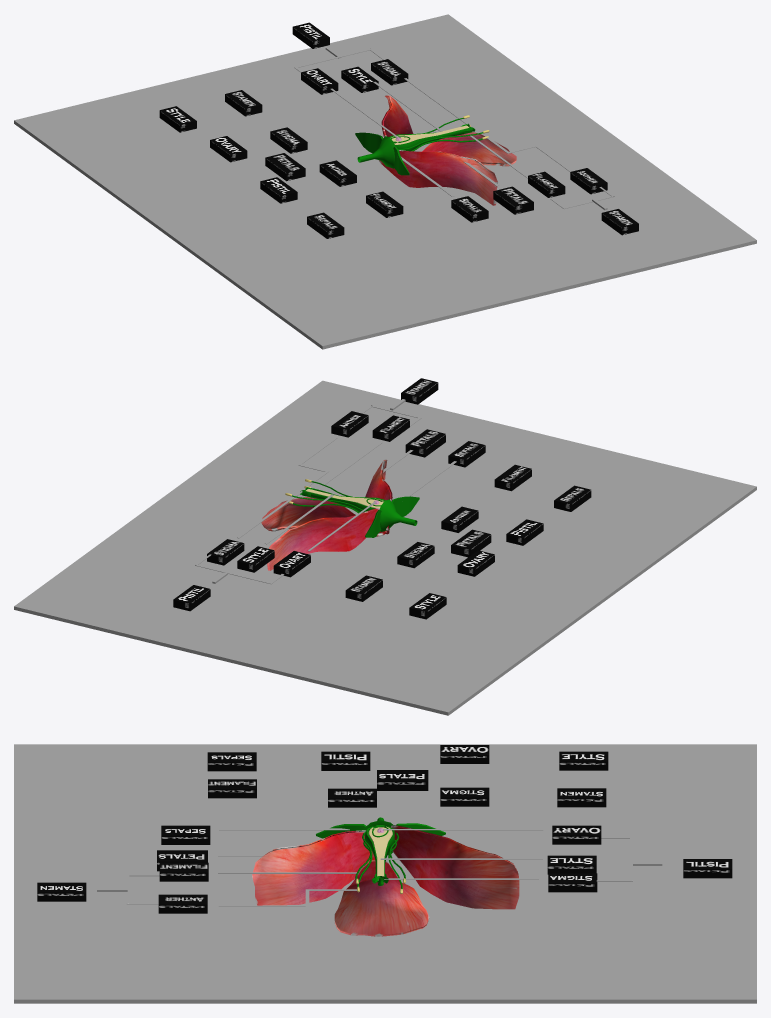
Rendered from parts of flower.fbx.
The picture shows the model from 3 angles, top to bottom: view 1: azimuth 30°, elevation 25°; view 2: azimuth 150°, elevation 25°; view 3: azimuth 270°, elevation 25°; orthographic projection. The views are drawn at different scales.
Visible parts, largest first — view 1: base, flowerShape, petals1 (×2), fliament (×2), stagmen (×2), sepals (×2), pistil (×2), style (×2), anther (×2), ovary (×2), stigma (×2); view 2: base, flowerShape, petals1 (×2), pistil (×2), fliament (×2), anther (×2), style (×2), stigma (×2), ovary (×2), stagmen (×2), sepals (×2); view 3: base, flowerShape, pistil (×2), stagmen (×2), sepals (×2), stigma (×2), fliament (×2), anther (×2), style (×2), ovary (×2), petals1 (×2).
Part boxes in pixels (left/top/right/bottom): base: left=14, top=14, right=756, bottom=349; flowerShape: left=294, top=47, right=614, bottom=210; petals1 (×2): left=265, top=153, right=533, bottom=214; fliament (×2): left=366, top=171, right=565, bottom=217; stagmen (×2): left=225, top=90, right=638, bottom=235; sepals (×2): left=307, top=196, right=488, bottom=238; pistil (×2): left=260, top=22, right=329, bottom=203; style (×2): left=159, top=66, right=378, bottom=132; anther (×2): left=319, top=160, right=607, bottom=194; ovary (×2): left=210, top=68, right=338, bottom=162; stigma (×2): left=270, top=59, right=408, bottom=153; base: left=14, top=380, right=756, bottom=715; flowerShape: left=195, top=399, right=456, bottom=584; petals1 (×2): left=405, top=429, right=491, bottom=557; pistil (×2): left=173, top=519, right=543, bottom=611; fliament (×2): left=372, top=415, right=531, bottom=491; anther (×2): left=331, top=411, right=478, bottom=532; style (×2): left=237, top=546, right=446, bottom=619; stigma (×2): left=207, top=539, right=434, bottom=568; ovary (×2): left=273, top=550, right=494, bottom=577; stagmen (×2): left=345, top=378, right=438, bottom=601; sepals (×2): left=448, top=441, right=591, bottom=511; base: left=14, top=744, right=756, bottom=1003; flowerShape: left=97, top=817, right=662, bottom=936; pistil (×2): left=321, top=751, right=732, bottom=878; stagmen (×2): left=37, top=788, right=606, bottom=901; sepals (×2): left=161, top=752, right=256, bottom=844; stigma (×2): left=440, top=787, right=597, bottom=892; fliament (×2): left=159, top=779, right=256, bottom=881; anther (×2): left=158, top=788, right=376, bottom=913; style (×2): left=547, top=751, right=608, bottom=874; ovary (×2): left=440, top=745, right=601, bottom=844; petals1 (×2): left=157, top=770, right=428, bottom=871.
Size of the model in its own units: 143 by 23.49 by 176.
Materials: 10 (2 with a texture image).
